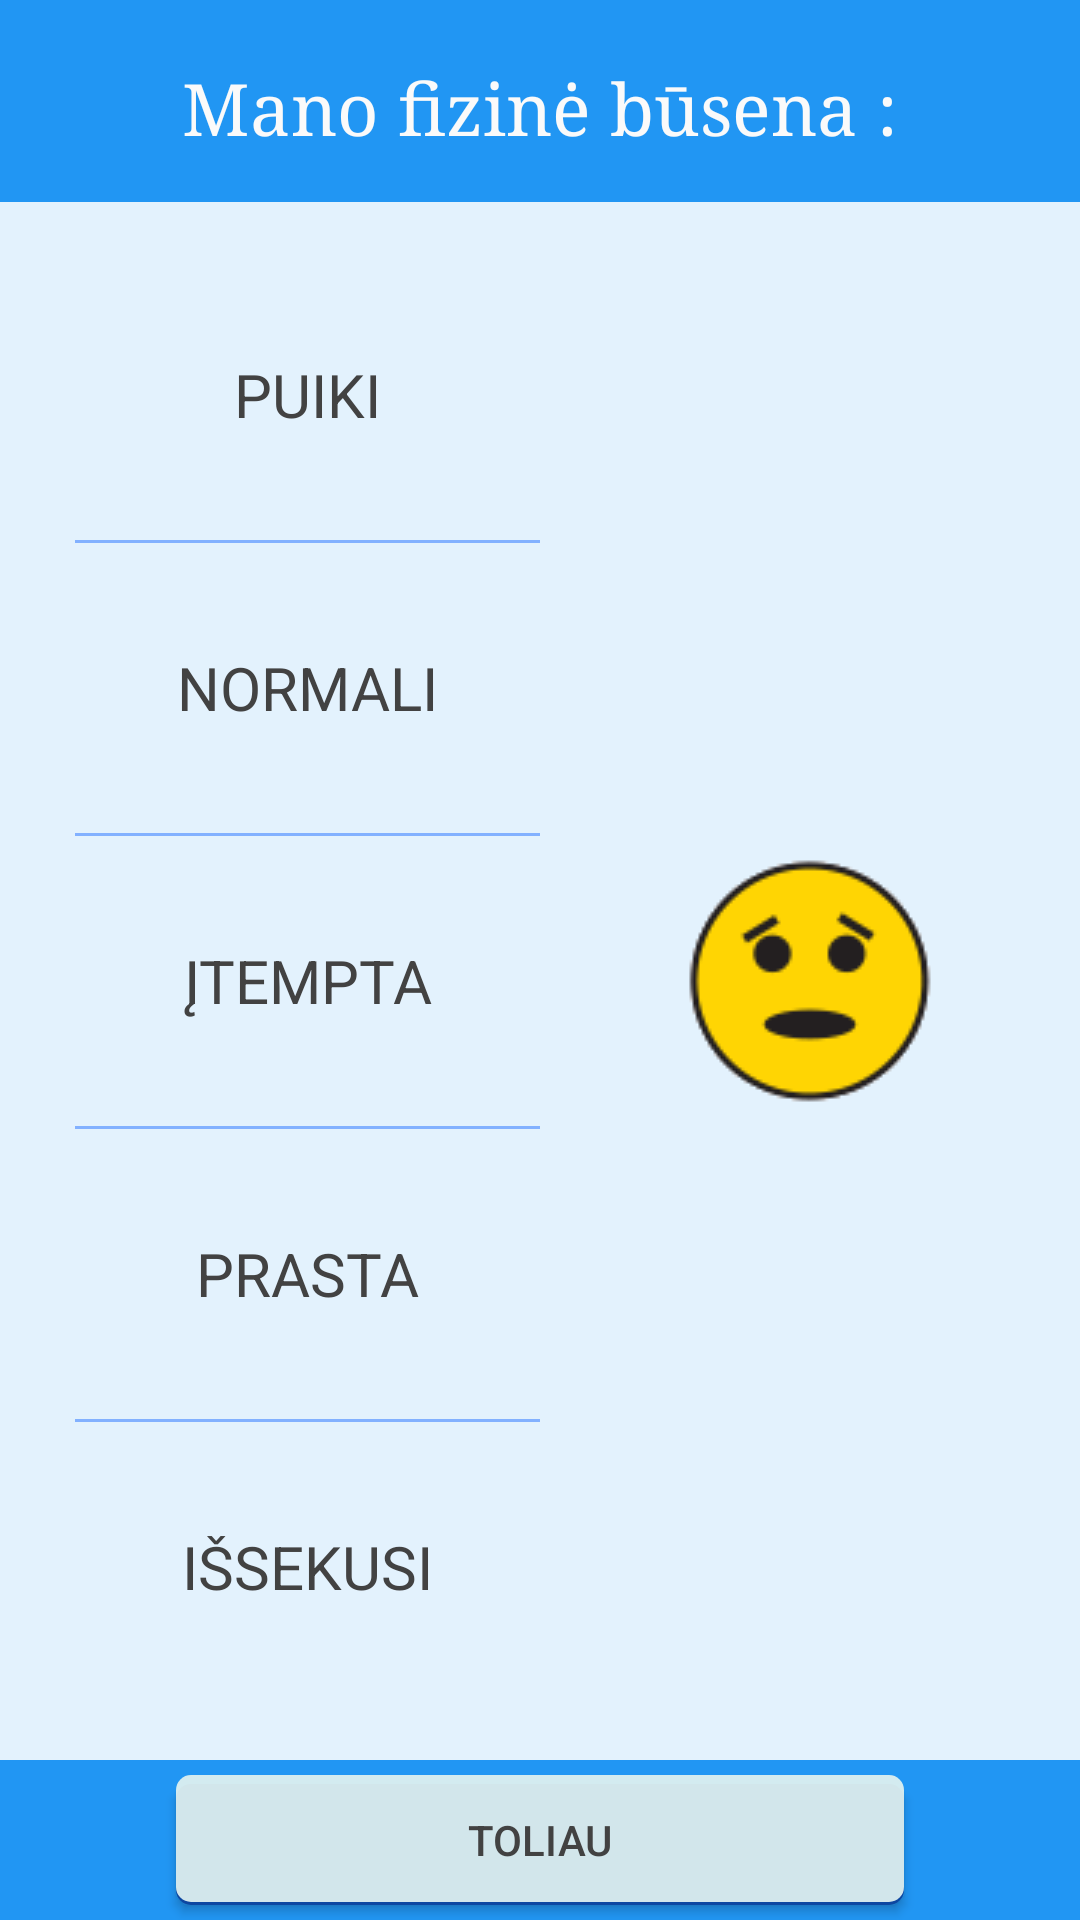

Point at icon controls on the screen. Image size 1080w x 1920h, points as (x=x, y=y).
A picture that describes your physical state: (x=810, y=981)
